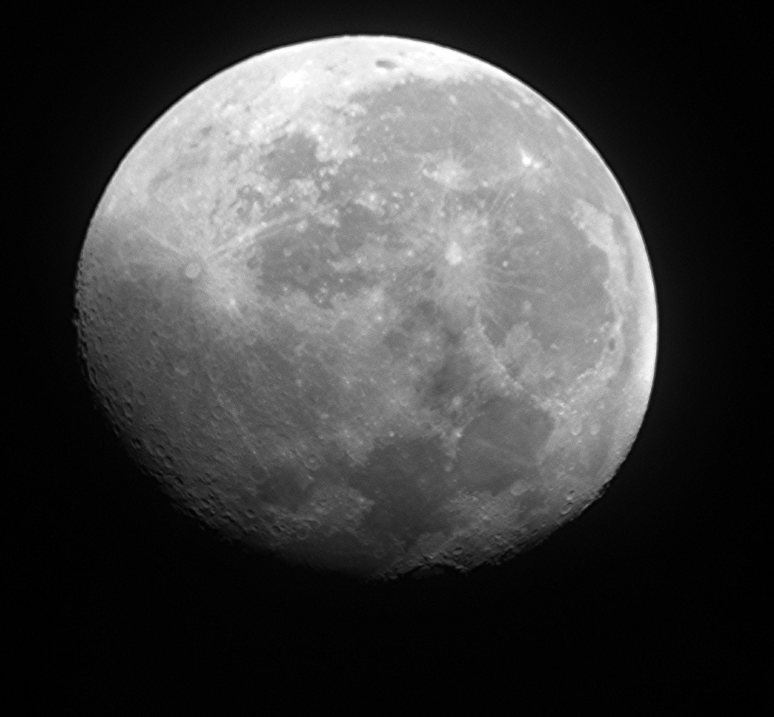crater: (381, 195, 528, 309), (142, 214, 267, 314), (335, 47, 430, 96), (439, 379, 492, 419), (285, 436, 337, 475), (164, 345, 207, 390), (148, 436, 188, 472), (505, 140, 535, 179), (243, 458, 277, 487), (599, 325, 621, 367), (132, 381, 161, 410)
